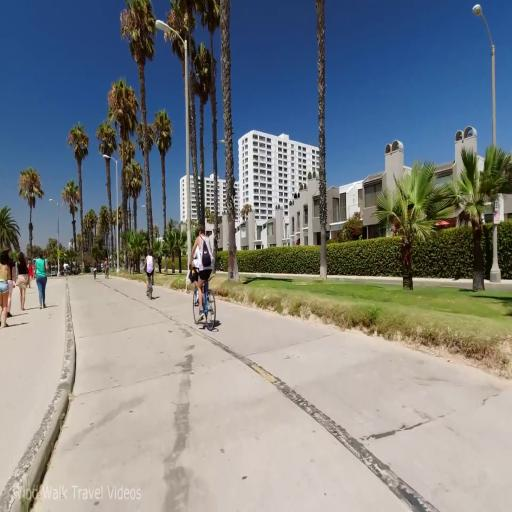Street_Light: (154, 13, 196, 290), (471, 0, 505, 289), (101, 147, 122, 274), (46, 192, 62, 284)
